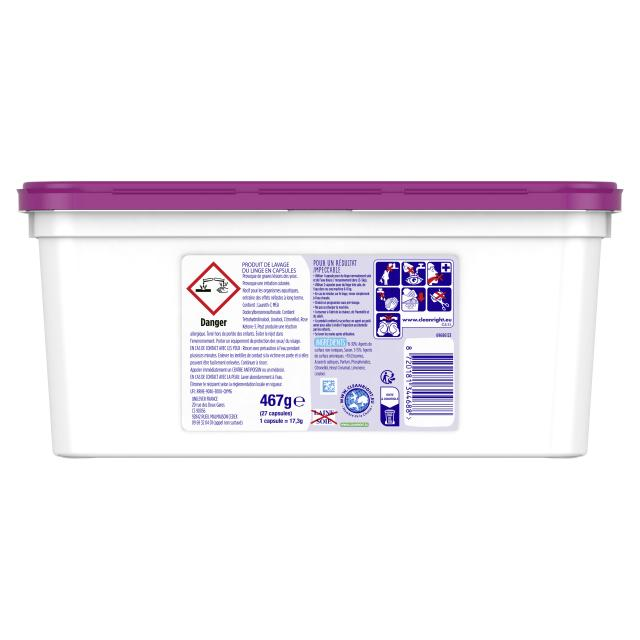GHS_Symbol_CORROSION: (186, 260, 240, 315)
